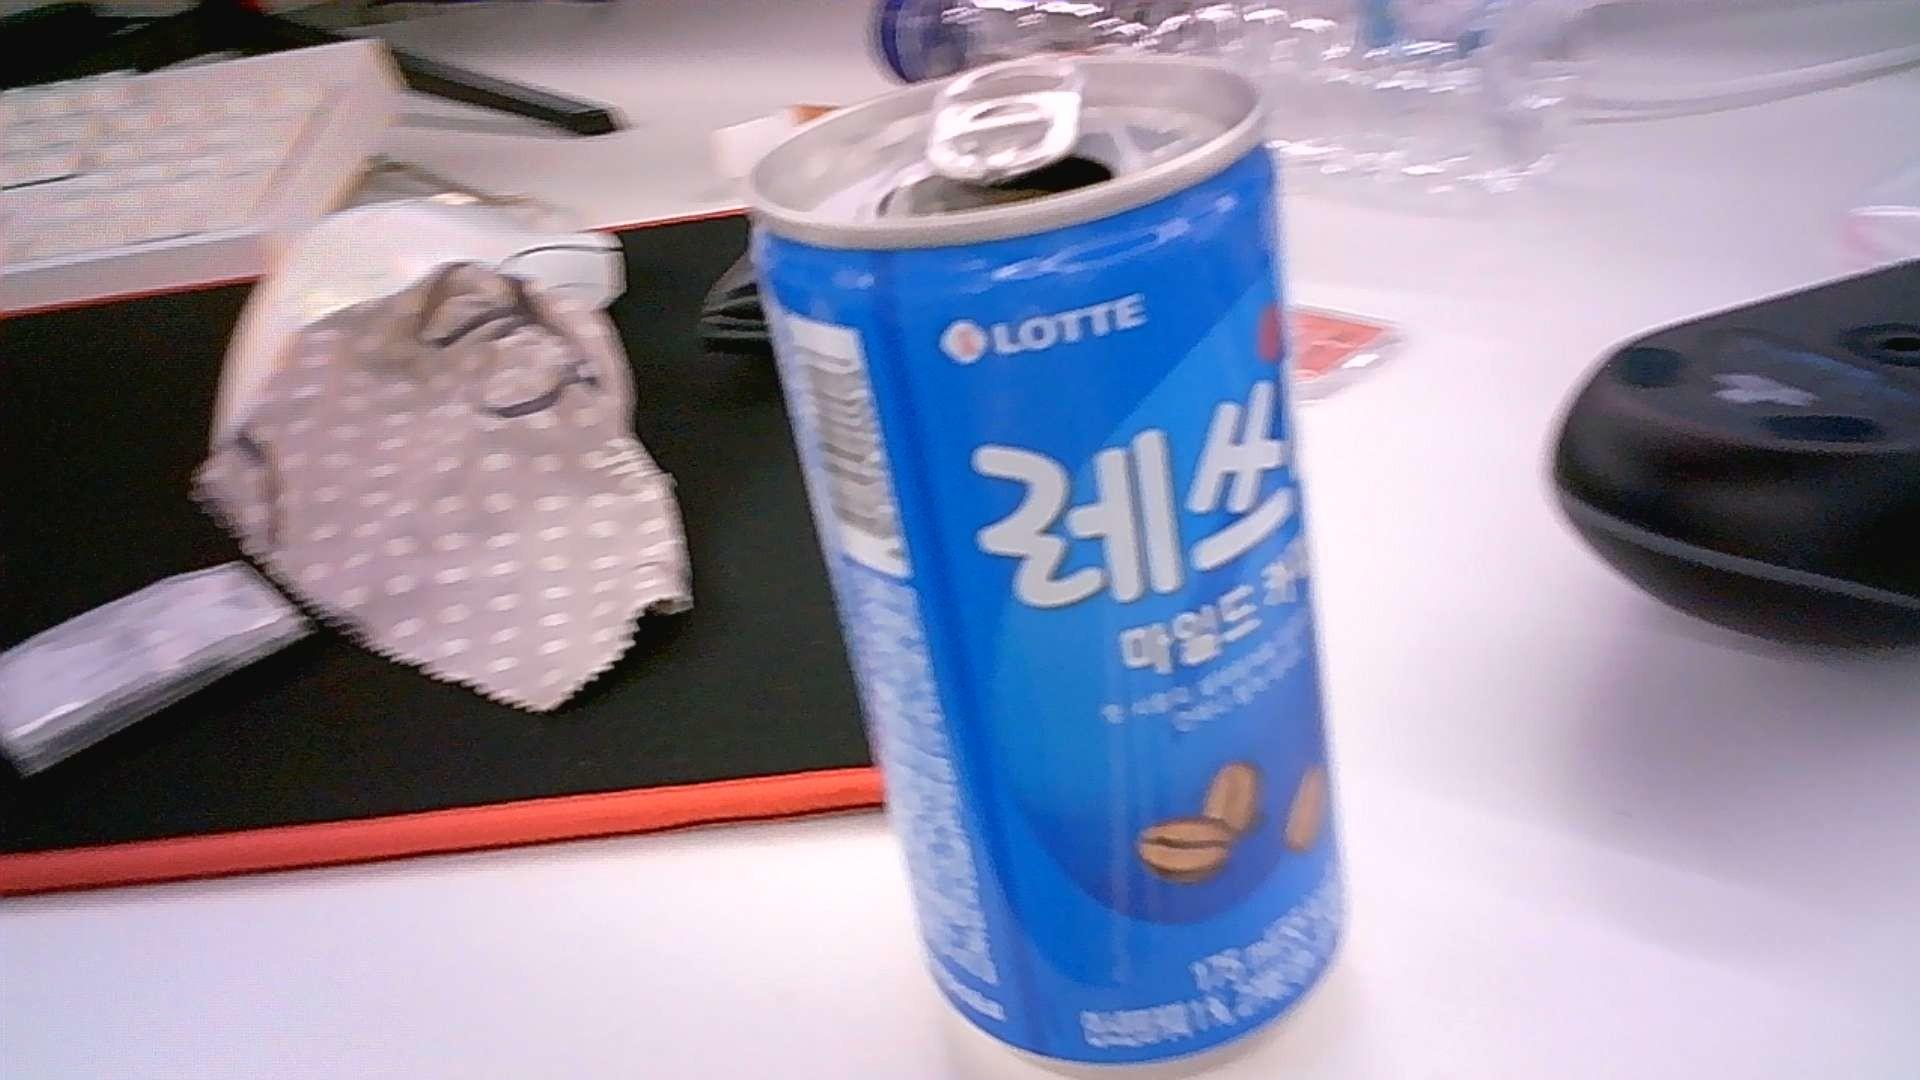letsbe: (748, 49, 1348, 1068)
